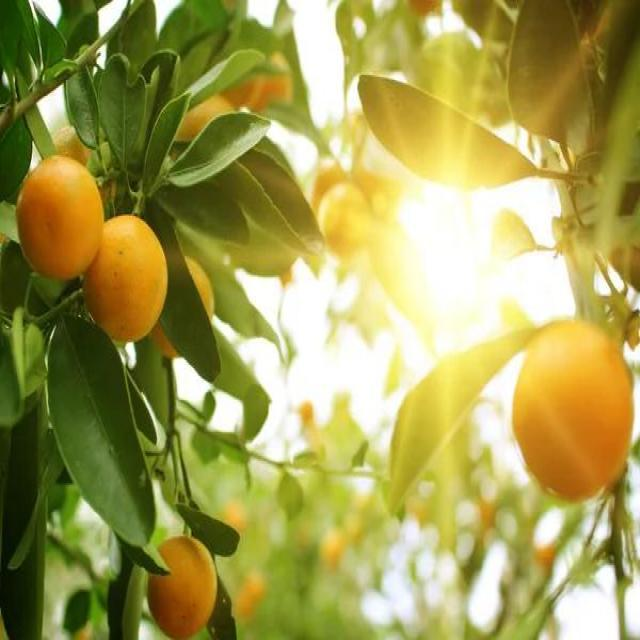Jeruk Sudah Matang: (513, 317, 636, 504), (80, 214, 166, 346), (15, 156, 101, 278), (147, 534, 217, 640), (152, 253, 216, 360)
